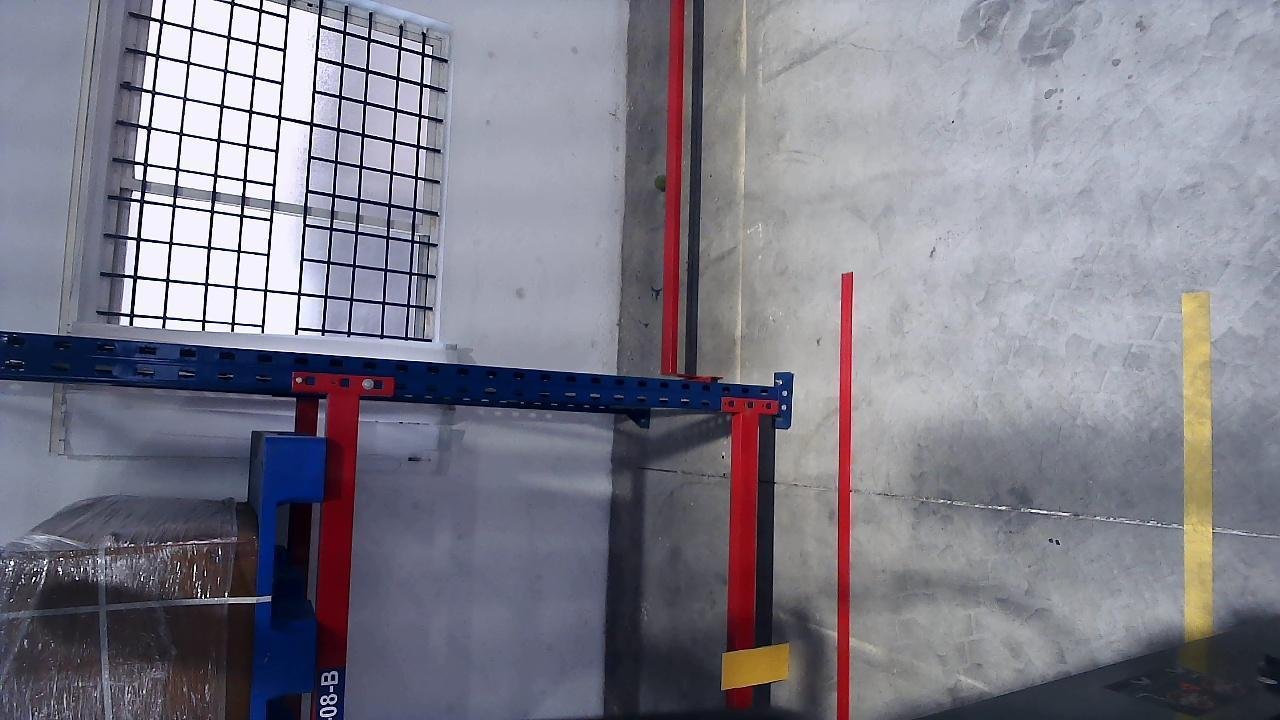red_line: (835, 273, 854, 717)
yellow_line: (1182, 298, 1215, 635)
